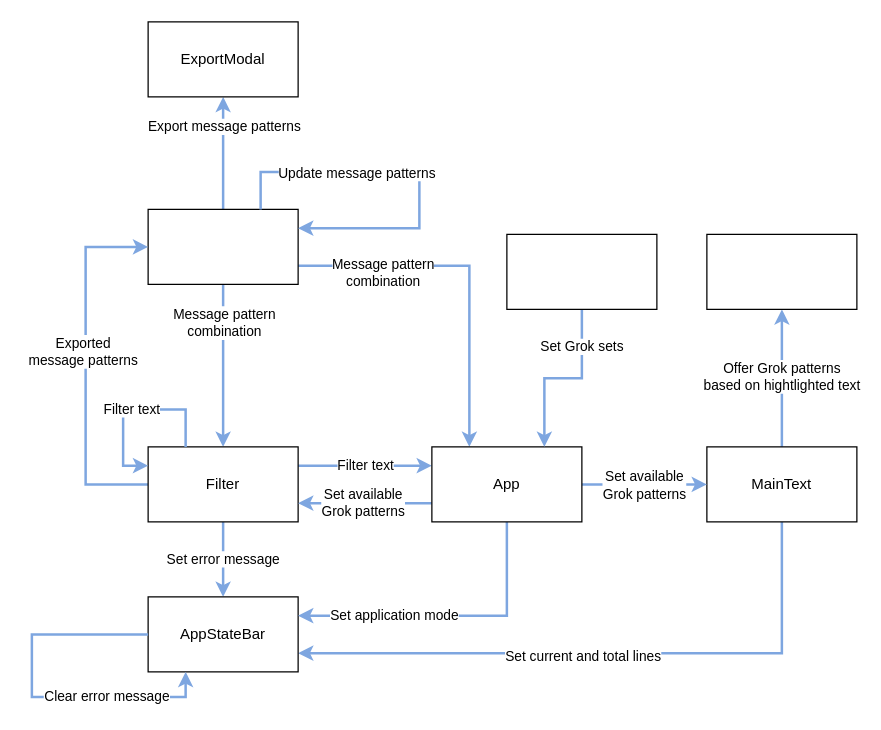
Some shapes in this 881 by 730 pixel diagram are drawn without their labels. The shapes that lost their labels are listed below. From the top down, each one's centre as x and y in pixels, then its label:
At point (222, 246): "ToolBar".
At point (581, 271): "GrokSetSelection".
At point (781, 271): "Popup".
